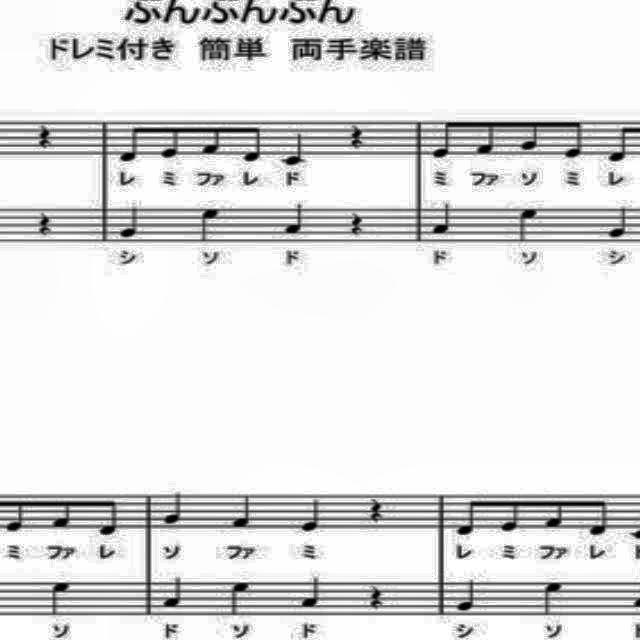Eighth-note: (604, 115, 636, 167), (451, 492, 485, 536), (584, 491, 612, 543), (427, 112, 455, 162), (0, 489, 28, 539), (537, 492, 569, 534), (49, 488, 79, 532), (117, 118, 143, 166), (240, 122, 268, 166), (96, 495, 124, 537), (516, 113, 544, 155), (562, 111, 586, 160), (158, 122, 188, 160), (473, 116, 497, 160), (498, 492, 522, 536), (198, 118, 224, 158)
Quarter-note: (228, 490, 264, 534), (278, 126, 314, 168), (224, 578, 256, 622), (297, 496, 331, 536), (425, 195, 455, 239), (299, 574, 329, 618), (603, 201, 637, 239), (159, 488, 191, 528), (158, 571, 190, 611), (540, 576, 568, 620), (512, 203, 544, 241), (282, 198, 310, 238), (117, 204, 147, 240), (453, 578, 481, 616), (198, 204, 222, 246), (48, 578, 72, 616)
Quarter-rest: (342, 204, 371, 244), (33, 123, 56, 157), (368, 490, 388, 526), (366, 580, 386, 614), (36, 206, 56, 238), (346, 119, 366, 149)
